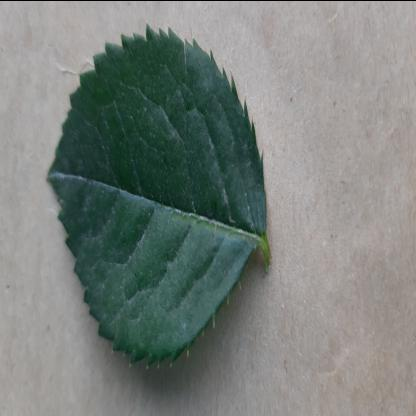normal: (46, 24, 268, 374)
